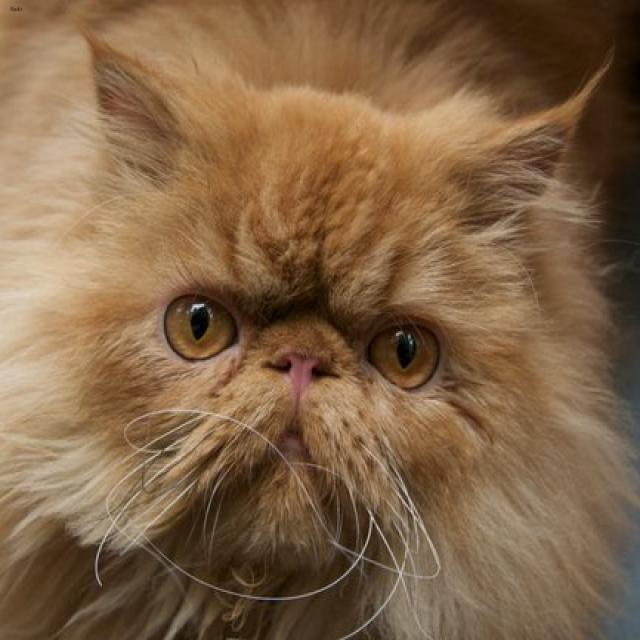Persian: (80, 30, 603, 552)
